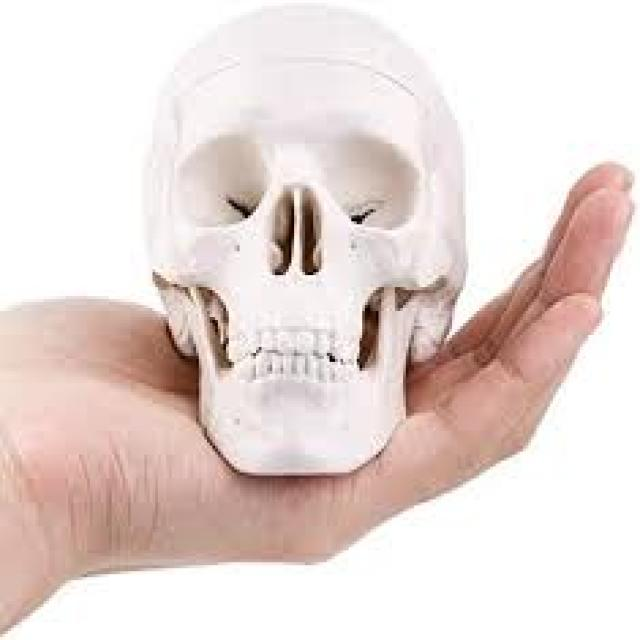skull: (132, 0, 490, 484)
